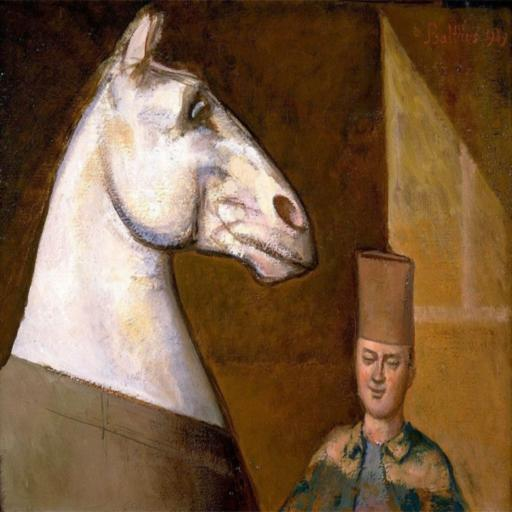horse: (14, 2, 324, 432)
